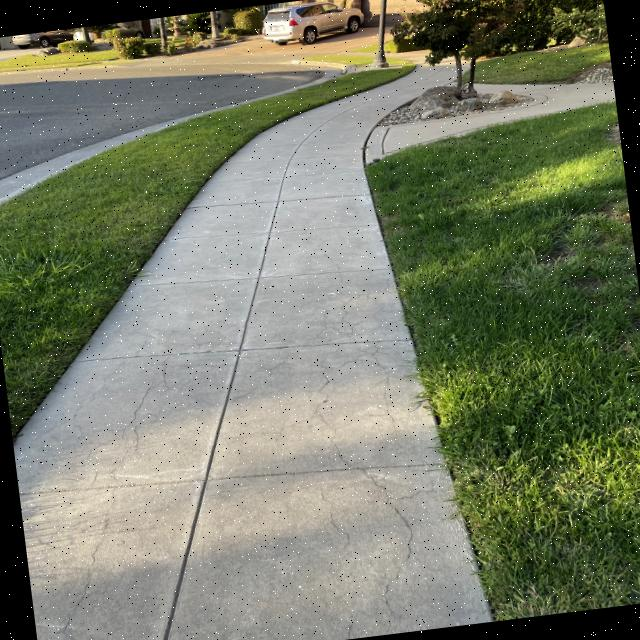road: (0, 101, 176, 205), (7, 83, 158, 152), (116, 61, 286, 118)
walkway: (39, 448, 473, 594), (26, 378, 440, 518), (42, 272, 454, 408), (72, 513, 489, 640), (62, 334, 428, 453), (96, 236, 414, 352), (127, 192, 421, 290), (173, 142, 402, 242), (206, 106, 369, 200)
walkway-edge: (401, 353, 484, 513), (441, 452, 509, 626), (424, 438, 499, 582), (352, 156, 419, 302), (384, 278, 454, 416), (278, 60, 412, 111), (21, 312, 99, 391), (227, 112, 280, 158)
